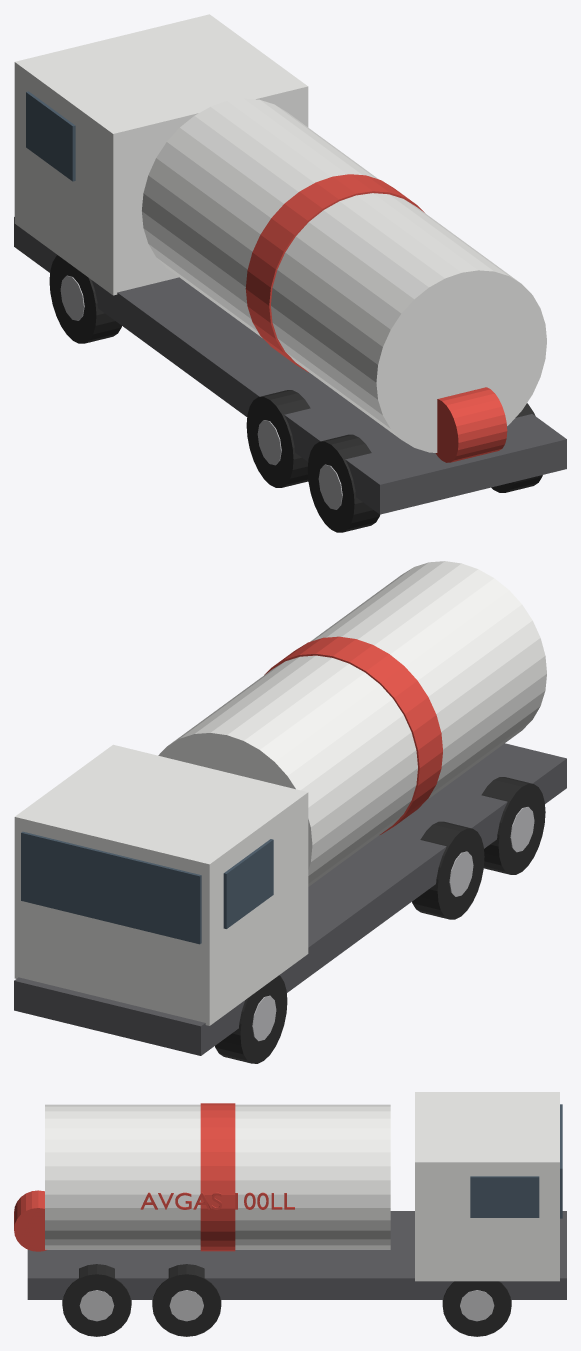
Rendered from fuel_truck.glb.
3 views of the same model, one above another, from view 1: azimuth 30°, elevation 25°; view 2: azimuth 150°, elevation 25°; view 3: azimuth 270°, elevation 25° (orthographic). The views are drawn at different scales.
Parts seen in each view (by area): view 1: tank, cab, chassis, band, hose_reel, wheel.002, wheel.001, side_window, wheel, hub, hub.002, hub.001; view 2: tank, cab, chassis, windscreen, band, wheel.001, wheel.002, side_window, wheel, hub, hub.001, hub.002; view 3: tank, cab, chassis, band, wheel.004, wheel.005, side_window.001, wheel.003, hose_reel, Text, hub.003, hub.004 (+2 smaller).
Boxes of the visible parts, x1,y1,x2,y2 form: tank: [142, 98, 546, 452]; cab: [14, 14, 308, 295]; chassis: [14, 217, 566, 514]; band: [245, 174, 424, 372]; hose_reel: [435, 387, 507, 462]; wheel.002: [307, 434, 379, 532]; wheel.001: [246, 390, 310, 487]; side_window: [26, 91, 75, 181]; wheel: [49, 255, 121, 343]; hub: [60, 275, 84, 320]; hub.002: [318, 464, 342, 509]; hub.001: [257, 420, 281, 465]; tank: [158, 561, 546, 886]; cab: [14, 744, 308, 1025]; chassis: [14, 743, 566, 1055]; windscreen: [21, 831, 201, 944]; band: [264, 636, 442, 834]; wheel.001: [412, 821, 484, 919]; wheel.002: [481, 777, 545, 874]; side_window: [223, 839, 273, 928]; wheel: [215, 975, 287, 1063]; hub: [252, 995, 276, 1041]; hub.001: [449, 851, 473, 896]; hub.002: [510, 807, 534, 852]; tank: [45, 1104, 390, 1249]; cab: [415, 1092, 559, 1281]; chassis: [27, 1211, 566, 1299]; band: [200, 1103, 235, 1251]; wheel.004: [152, 1264, 221, 1336]; wheel.005: [62, 1264, 131, 1336]; side_window.001: [470, 1176, 539, 1217]; wheel.003: [442, 1281, 511, 1336]; hose_reel: [14, 1190, 47, 1251]; Text: [140, 1192, 294, 1209]; hub.003: [460, 1290, 494, 1321]; hub.004: [169, 1290, 203, 1321].
Bounding box in the file's own units: 2.47 × 3.07 × 8.
